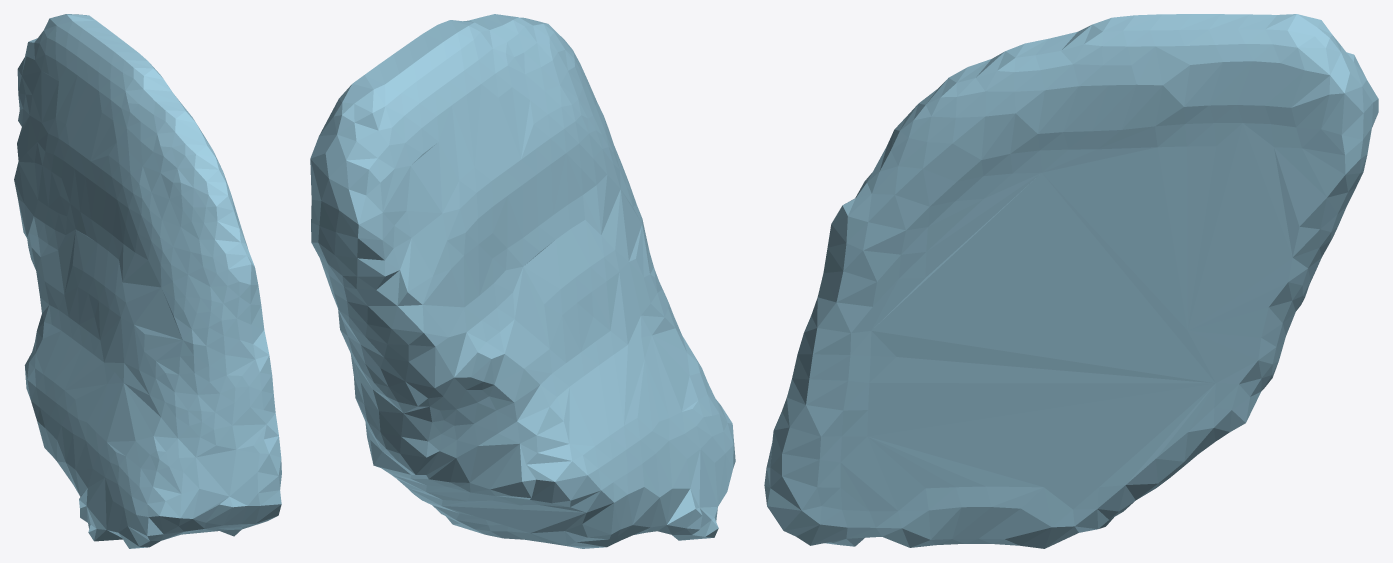
Rendered from Model_10247_LH__Medial_septal_nucleus_(MS).obj.
3 renders of one model, left to right at view 1: azimuth 30°, elevation 25°; view 2: azimuth 150°, elevation 25°; view 3: azimuth 270°, elevation 25°, orthographic. The views are drawn at different scales.
Size of the model in its own units: 0.79 by 2.07 by 2.12.
